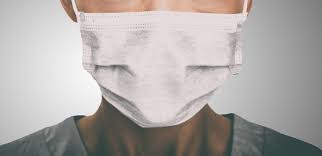mask: (69, 1, 244, 129)
